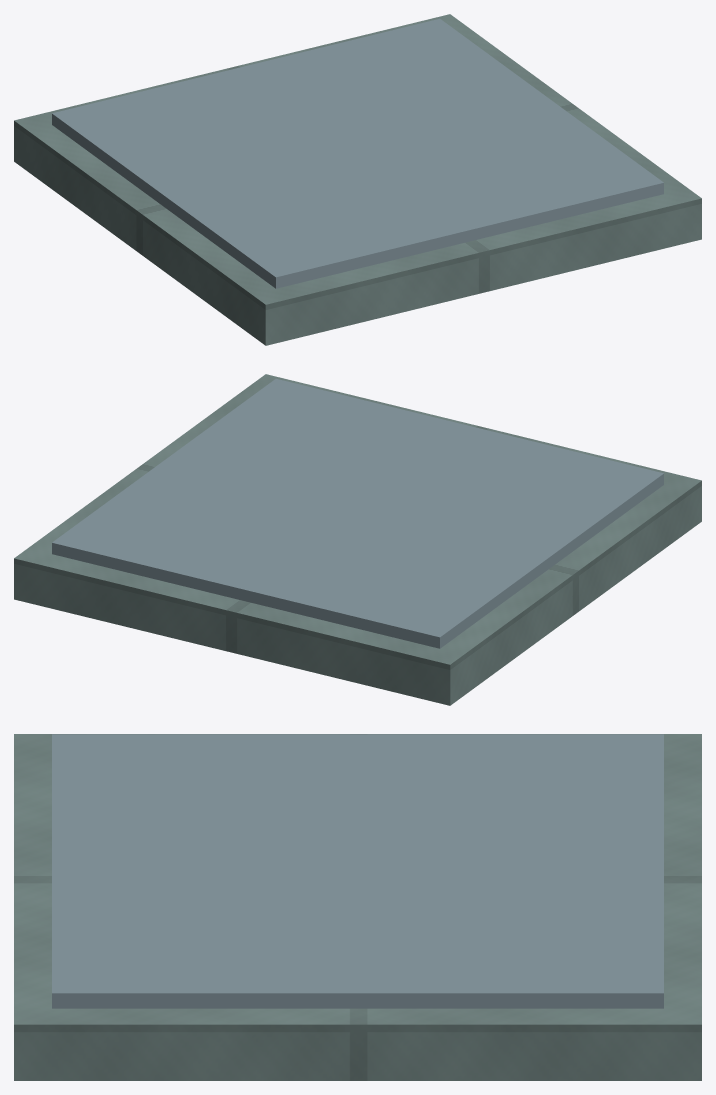
Rendered from Hab_Roof_2m.glb.
The picture shows the model from 3 angles, top to bottom: view 1: azimuth 30°, elevation 25°; view 2: azimuth 150°, elevation 25°; view 3: azimuth 270°, elevation 25°; orthographic projection. The views are drawn at different scales.
Visible parts, largest first — view 1: Hab_Roof_2m; view 2: Hab_Roof_2m; view 3: Hab_Roof_2m.
Boxes of the visible parts, x1=… form: Hab_Roof_2m: x1=14, y1=14, x2=701, y2=345; Hab_Roof_2m: x1=14, y1=374, x2=701, y2=705; Hab_Roof_2m: x1=14, y1=734, x2=701, y2=1080.
Size of the model in its own units: 2 by 0.23 by 2.
Materials: 2 (1 with a texture image).
